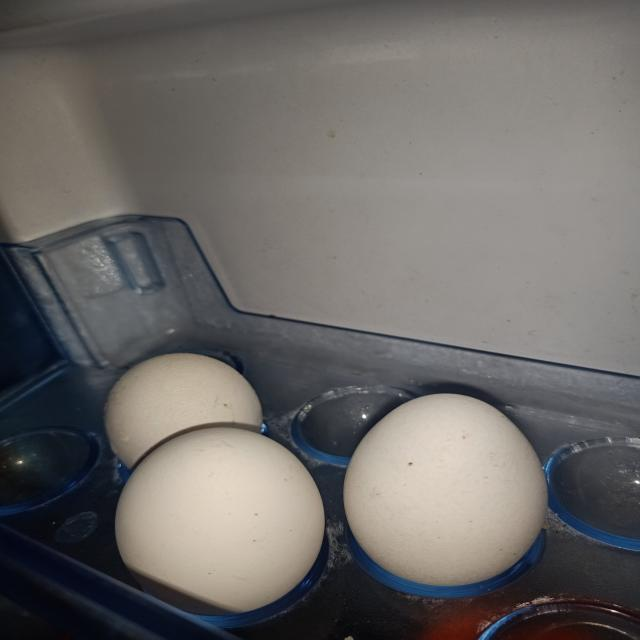Egg: (115, 428, 324, 616), (344, 394, 547, 587), (104, 353, 262, 469)
